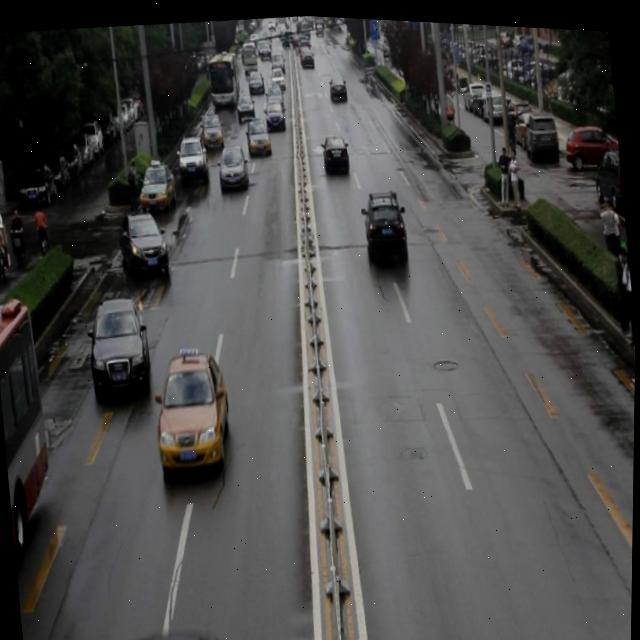car: (149, 340, 237, 476), (85, 292, 155, 400), (116, 205, 173, 284), (359, 181, 410, 264), (138, 154, 178, 211), (175, 129, 211, 183), (216, 140, 251, 189), (320, 129, 351, 172), (244, 115, 272, 154), (198, 111, 224, 148), (263, 98, 287, 131)
van: (0, 296, 68, 608)
